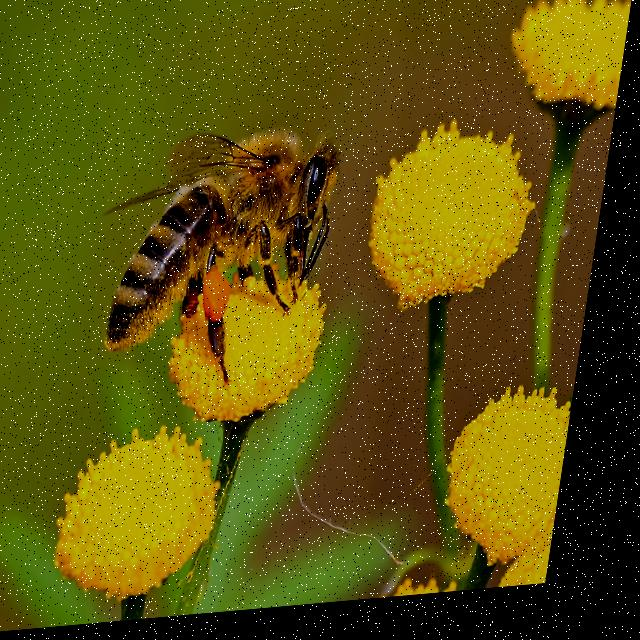Apis-mellifera-scutellata: (81, 109, 381, 396)
